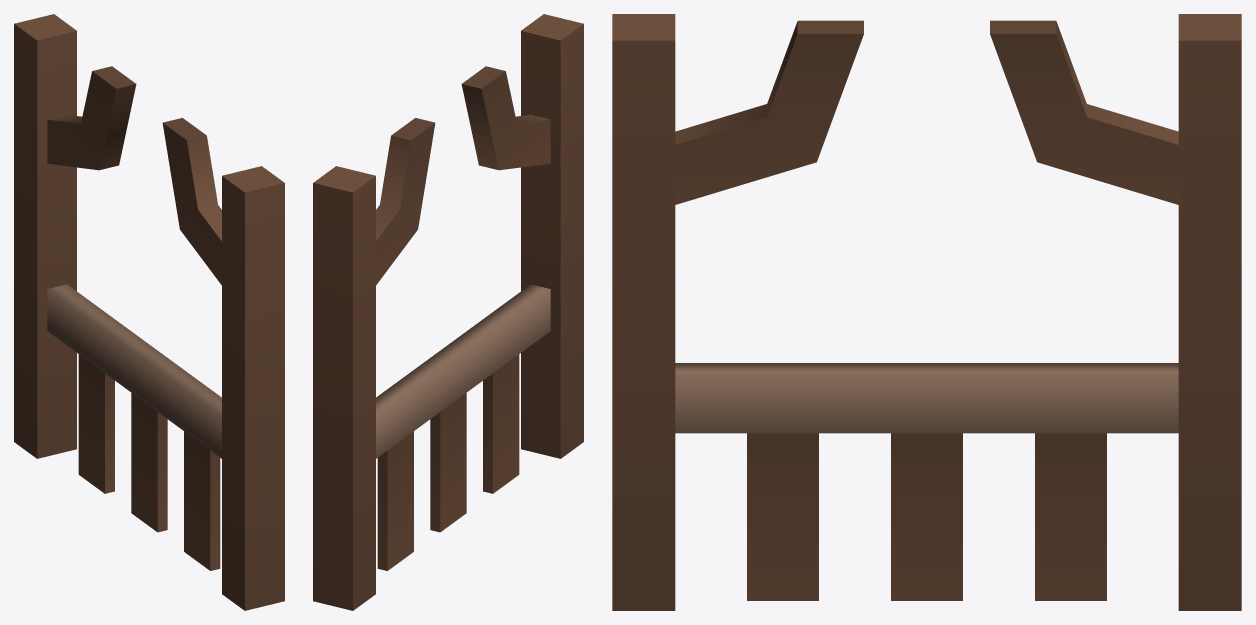
Rendered from balcony-wall-fence.glb.
3 views of the same model, side by side, from view 1: azimuth 30°, elevation 25°; view 2: azimuth 150°, elevation 25°; view 3: azimuth 270°, elevation 25° (orthographic). The views are drawn at different scales.
Parts seen in each view (by area): view 1: balcony-wall-fence; view 2: balcony-wall-fence; view 3: balcony-wall-fence.
Part boxes in pixels (<box>): balcony-wall-fence: <box>14,14,284,610</box>; balcony-wall-fence: <box>313,14,583,610</box>; balcony-wall-fence: <box>612,14,1241,610</box>.
Size of the model in its own units: 0.1 by 1 by 1.
1 material, 1 textured.
